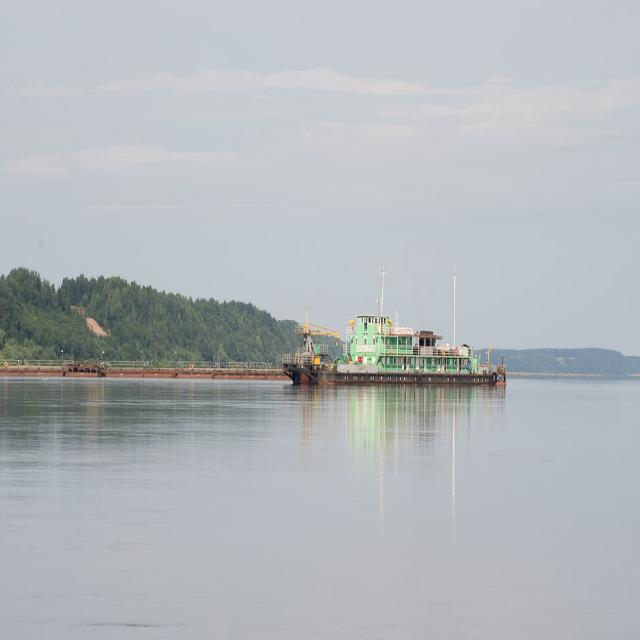fishing boat: (286, 303, 510, 391)
